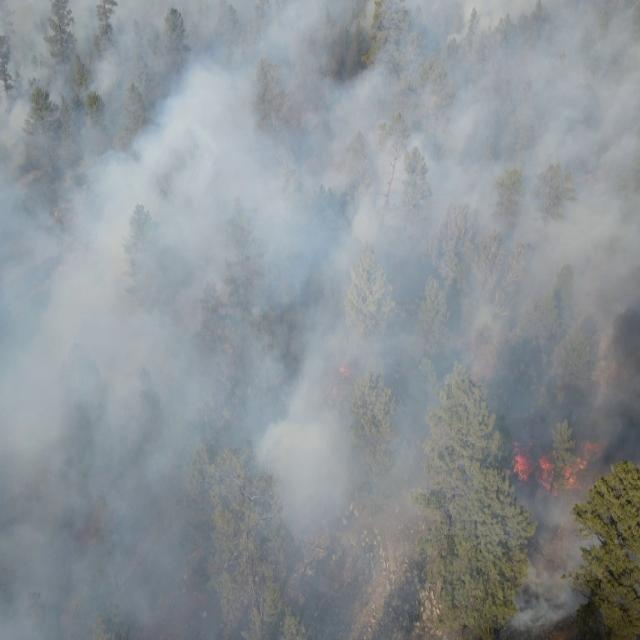fire: (508, 431, 608, 495), (337, 358, 356, 382)
smoke: (0, 0, 640, 640)
